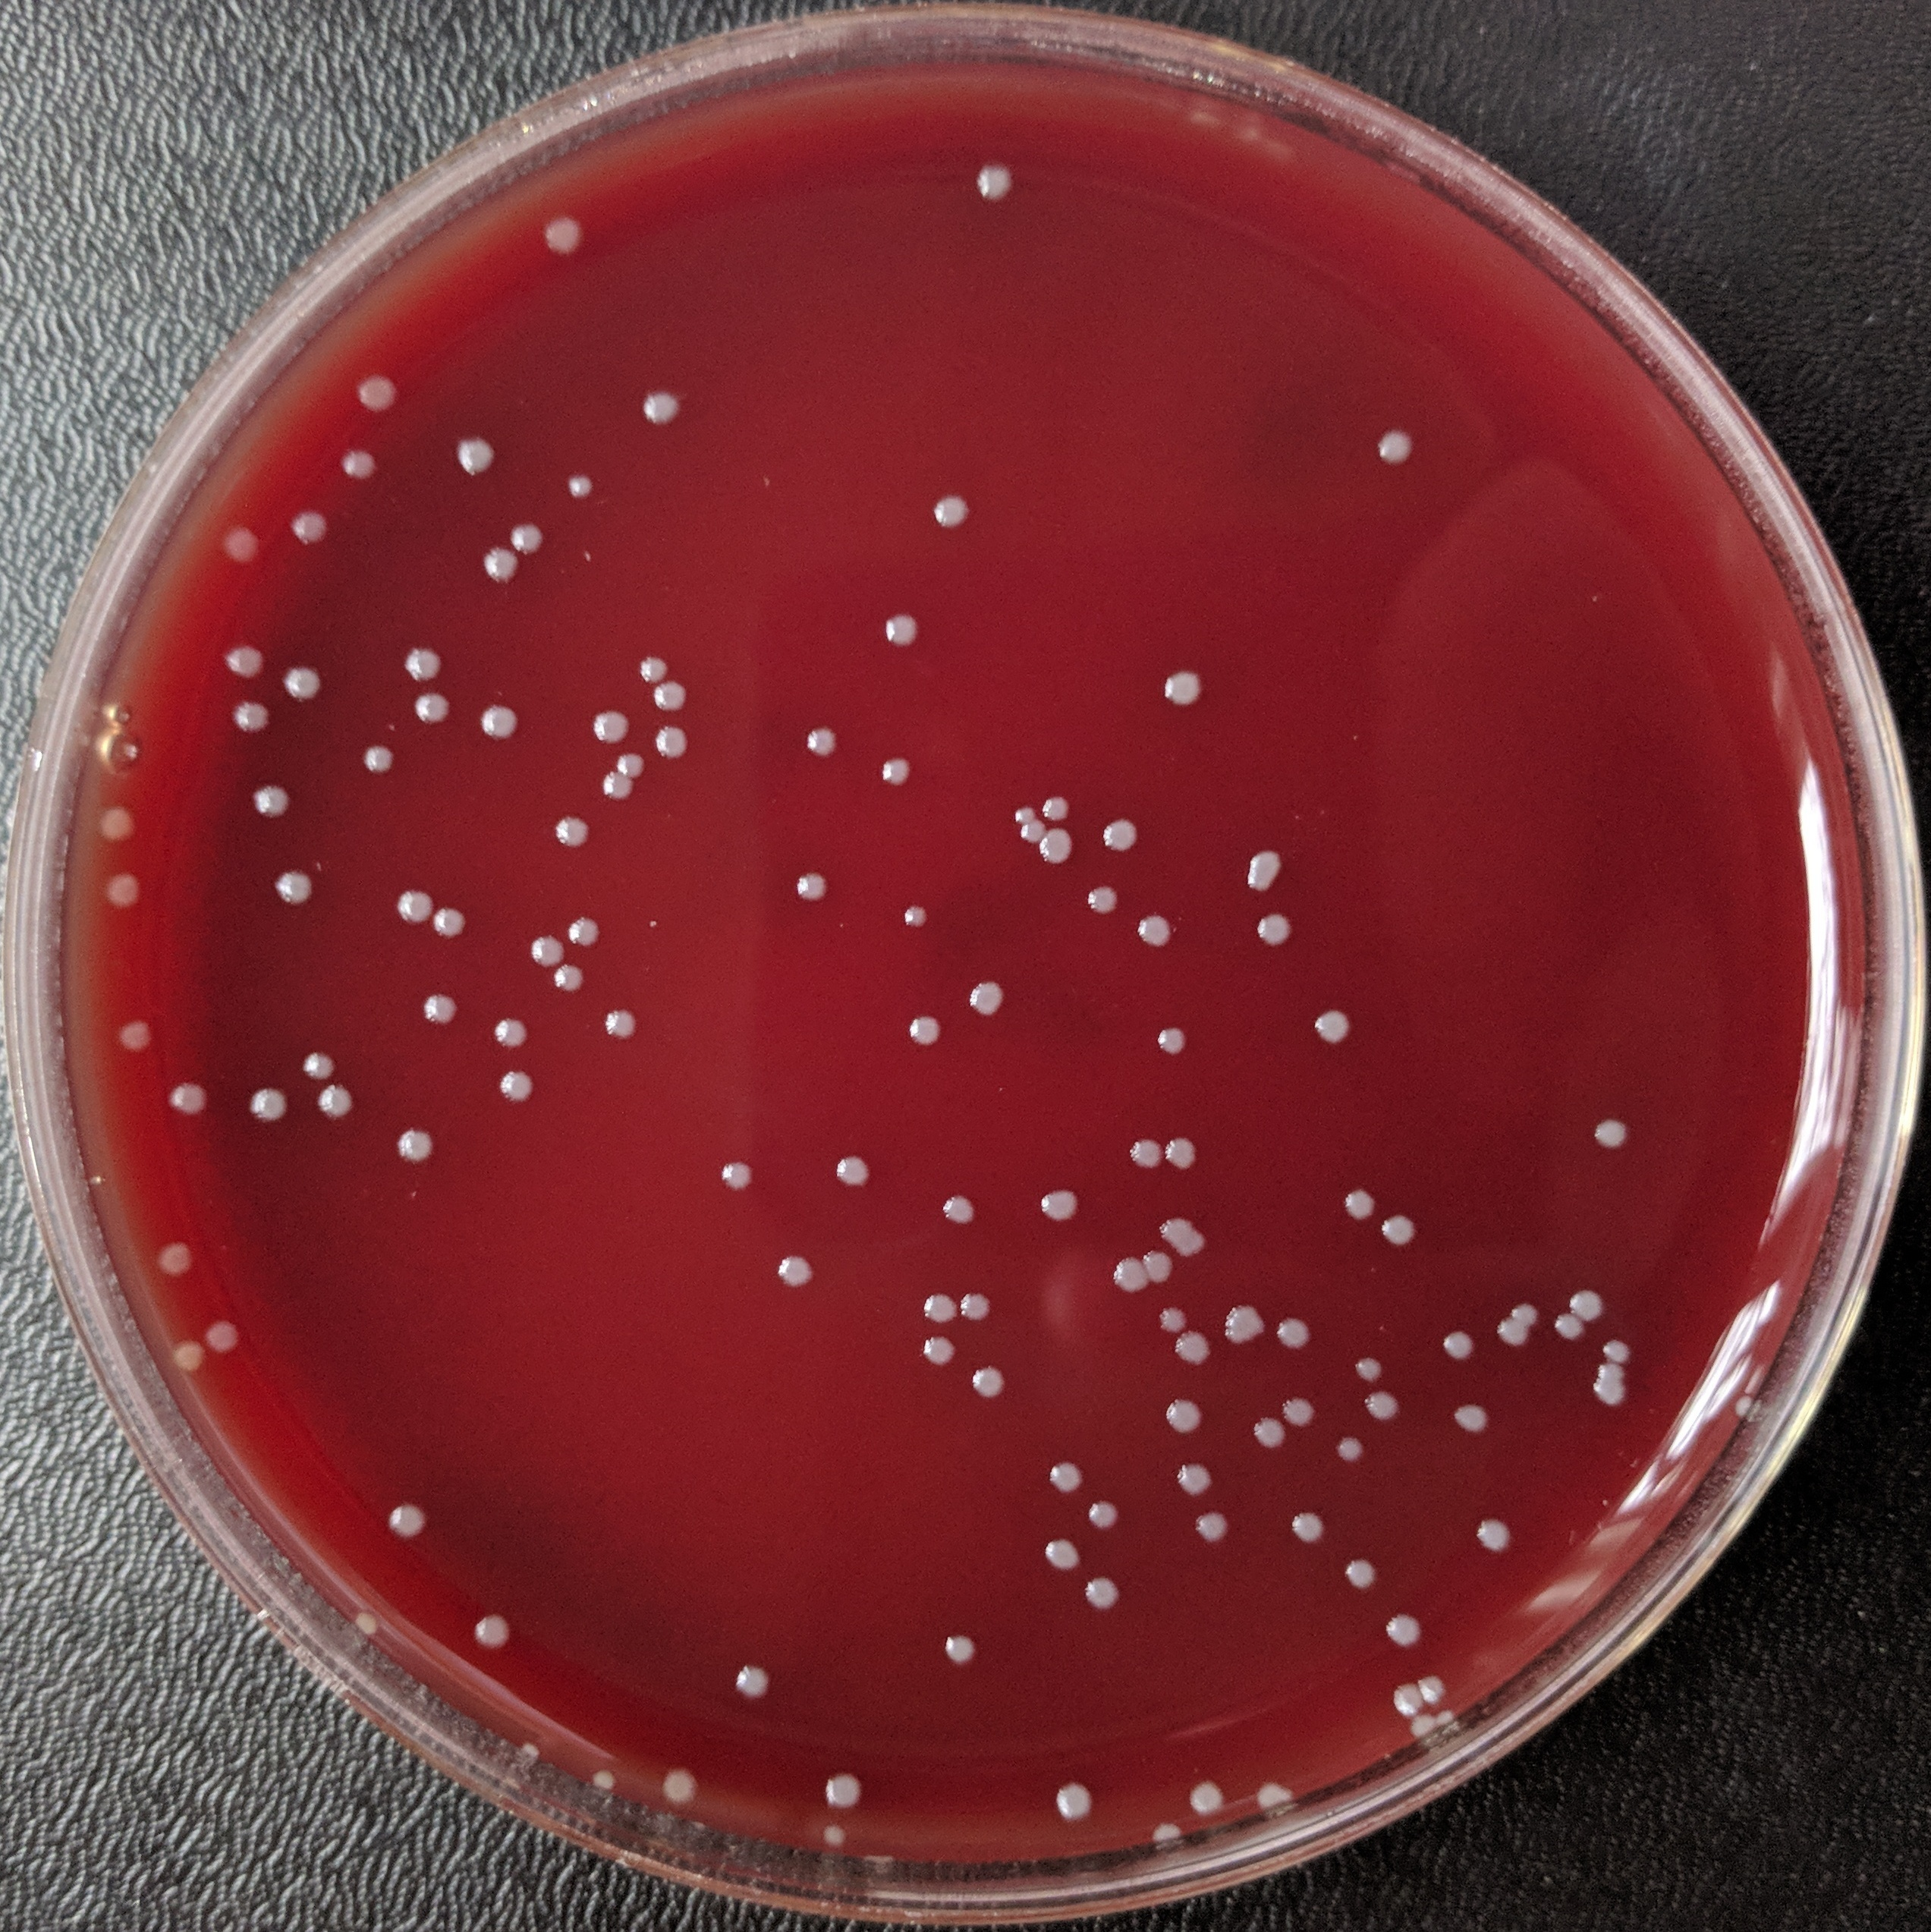sp15: (523, 207, 603, 264), (1577, 1095, 1646, 1159), (1146, 667, 1222, 711), (630, 373, 686, 432), (964, 154, 1020, 211), (769, 1249, 833, 1295), (237, 1083, 290, 1132), (704, 1152, 769, 1191), (1105, 1254, 1155, 1306), (1236, 849, 1293, 893), (1466, 1516, 1515, 1564), (828, 1148, 875, 1198), (401, 639, 449, 688), (219, 520, 265, 571), (960, 982, 1013, 1026), (490, 1065, 543, 1109), (925, 488, 974, 534), (1033, 1178, 1079, 1228), (352, 372, 401, 418), (311, 1083, 363, 1127), (1096, 817, 1149, 860), (382, 1493, 428, 1541), (1374, 419, 1418, 469), (451, 430, 500, 474), (170, 1332, 214, 1382), (780, 867, 836, 904), (875, 610, 925, 653), (470, 1614, 516, 1658), (338, 444, 384, 488), (97, 800, 143, 844), (599, 1000, 642, 1047), (391, 1125, 440, 1166), (1167, 1460, 1224, 1495), (1146, 1019, 1199, 1056), (1052, 1778, 1098, 1821), (877, 754, 920, 800), (1379, 1610, 1427, 1651), (911, 1286, 958, 1327), (407, 686, 456, 725), (900, 1008, 951, 1046), (164, 1081, 216, 1118), (106, 870, 150, 913), (1128, 909, 1174, 950), (228, 697, 274, 738), (1565, 1283, 1611, 1323), (1160, 1398, 1208, 1437), (359, 743, 407, 782), (1040, 1456, 1089, 1493), (1121, 1132, 1164, 1175), (1224, 1304, 1268, 1345), (822, 1771, 863, 1815), (658, 1766, 702, 1806), (1164, 1132, 1204, 1177), (272, 867, 317, 908), (1305, 1008, 1358, 1042), (1034, 1534, 1082, 1571), (898, 902, 946, 939), (962, 1364, 1004, 1405), (1448, 1398, 1492, 1437), (285, 665, 329, 704), (391, 886, 435, 925), (481, 702, 520, 747), (426, 906, 474, 941), (1183, 1775, 1224, 1815), (157, 1240, 198, 1281), (1257, 908, 1296, 950), (1271, 1313, 1314, 1352), (292, 508, 331, 550), (1141, 1244, 1179, 1286), (1385, 1681, 1429, 1718), (1333, 1557, 1379, 1592), (1079, 1575, 1125, 1610), (249, 786, 295, 821), (1171, 1332, 1217, 1368), (417, 991, 458, 1030), (1275, 1391, 1316, 1430), (483, 547, 522, 587), (120, 1012, 161, 1051), (553, 812, 592, 853), (1381, 1205, 1418, 1247), (523, 929, 566, 966), (221, 640, 265, 676), (1339, 1182, 1378, 1221), (587, 706, 626, 745), (729, 1660, 769, 1697), (651, 725, 691, 763), (207, 1320, 248, 1357), (799, 725, 845, 757), (1363, 1389, 1402, 1426), (1036, 830, 1073, 869), (488, 1014, 529, 1049), (596, 764, 637, 800), (939, 1626, 974, 1665), (958, 1284, 994, 1323), (1254, 1778, 1294, 1812), (939, 1192, 980, 1226), (1248, 1414, 1289, 1447), (1498, 1318, 1533, 1355), (1289, 1507, 1328, 1541), (1188, 1507, 1227, 1541), (1151, 1214, 1199, 1240), (1349, 1350, 1385, 1385), (920, 1330, 953, 1368), (656, 678, 690, 715), (1590, 1382, 1627, 1415), (1413, 1670, 1452, 1702), (1084, 1500, 1121, 1532), (301, 1049, 338, 1079), (1155, 1304, 1194, 1332), (1082, 883, 1118, 913), (564, 471, 599, 501), (568, 913, 596, 950), (614, 748, 651, 777), (550, 968, 589, 994), (1040, 793, 1073, 823), (511, 520, 545, 550), (1439, 1330, 1477, 1357), (1599, 1343, 1639, 1366), (638, 651, 663, 686), (1558, 1315, 1586, 1345), (1332, 1433, 1365, 1458), (1178, 1231, 1211, 1256), (591, 1766, 619, 1794), (1149, 1821, 1183, 1844), (819, 1826, 851, 1849), (1409, 1713, 1436, 1739), (1593, 1362, 1627, 1382), (1019, 823, 1047, 846), (1512, 1300, 1538, 1323), (1011, 807, 1036, 824), (1436, 1709, 1454, 1727)
